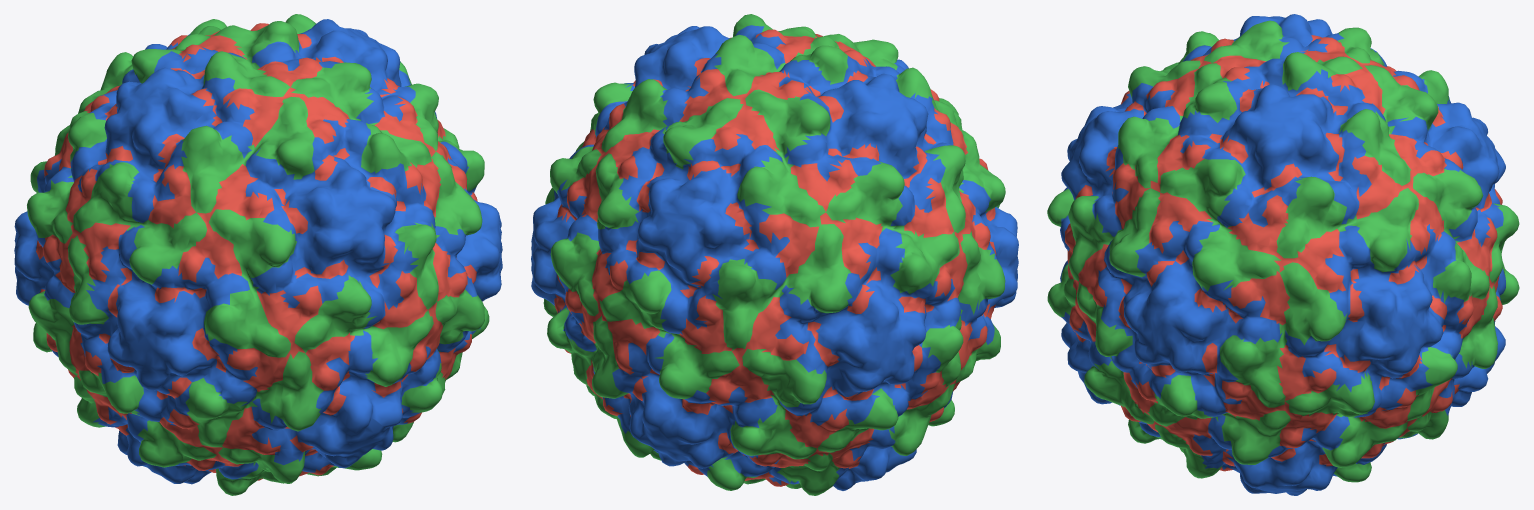
Rendered from 2PLV_GaussianSurface.obj.
The picture shows the model from 3 angles, left to right: view 1: azimuth 30°, elevation 25°; view 2: azimuth 150°, elevation 25°; view 3: azimuth 270°, elevation 25°; orthographic projection.
Visible parts, largest first — view 1: 2PLV_GaussianSurface_type1, 2PLV_GaussianSurface_type2, 2PLV_GaussianSurface_type3; view 2: 2PLV_GaussianSurface_type1, 2PLV_GaussianSurface_type2, 2PLV_GaussianSurface_type3; view 3: 2PLV_GaussianSurface_type1, 2PLV_GaussianSurface_type2, 2PLV_GaussianSurface_type3.
Part boxes in pixels (left/top/right/bottom): 2PLV_GaussianSurface_type1: left=14, top=19, right=502, bottom=484; 2PLV_GaussianSurface_type2: left=27, top=14, right=489, bottom=495; 2PLV_GaussianSurface_type3: left=36, top=23, right=477, bottom=480; 2PLV_GaussianSurface_type1: left=531, top=25, right=1018, bottom=490; 2PLV_GaussianSurface_type2: left=543, top=14, right=1005, bottom=495; 2PLV_GaussianSurface_type3: left=554, top=29, right=996, bottom=486; 2PLV_GaussianSurface_type1: left=1060, top=14, right=1505, bottom=495; 2PLV_GaussianSurface_type2: left=1047, top=20, right=1519, bottom=482; 2PLV_GaussianSurface_type3: left=1065, top=35, right=1502, bottom=471.
Size of the model in its own units: 0.3907 by 0.3928 by 0.3906.
